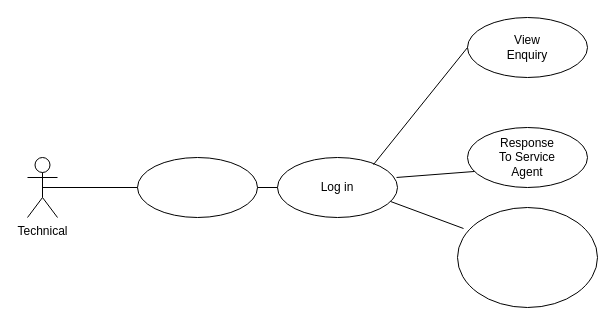
The diagram is 615 pixels wide and 325 high, and some of its shapes have lost their labels. Each missing label, with the centre of its shape:
Register Technical Person: pixel 197 187
Update status of Enquiry to Service Agent: pixel 527 257
